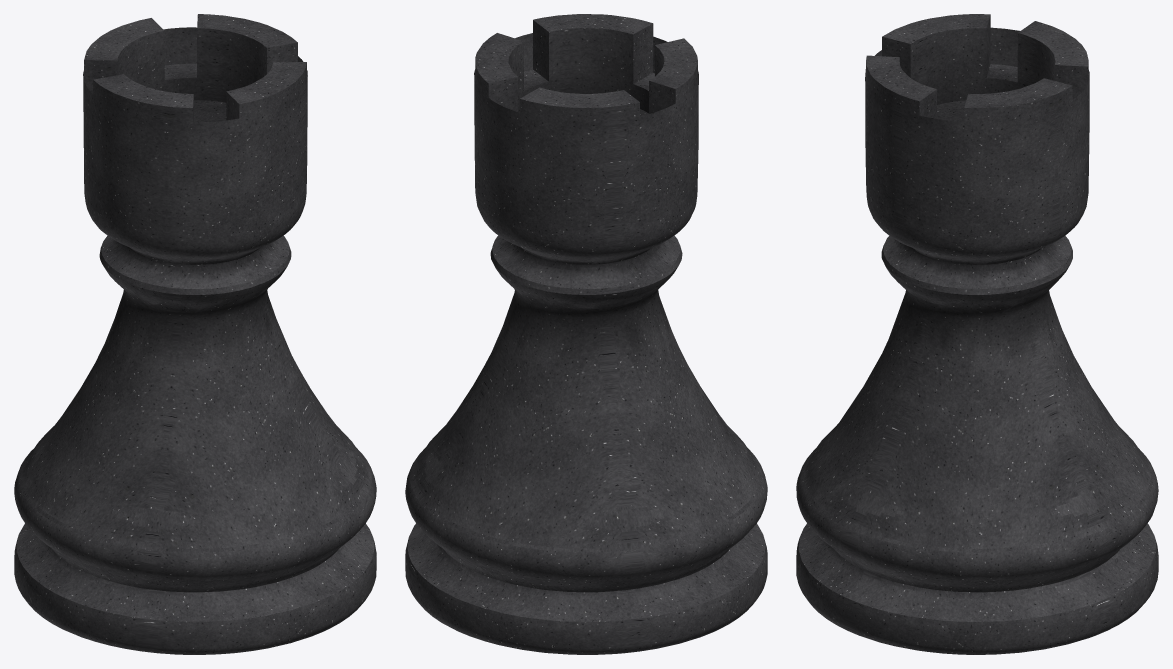
Rendered from rook-black.glb.
3 views of the same model, side by side, from view 1: azimuth 30°, elevation 25°; view 2: azimuth 150°, elevation 25°; view 3: azimuth 270°, elevation 25° (orthographic).
Parts seen in each view (by area): view 1: vez_cerna; view 2: vez_cerna; view 3: vez_cerna.
Part boxes in pixels (x1,y1,x2,y2): vez_cerna: [14, 14, 376, 654]; vez_cerna: [405, 14, 767, 654]; vez_cerna: [796, 14, 1158, 654].
Bounding box in the file's own units: 0.6248 × 1.01 × 0.6244.
Materials: 1 (1 with a texture image).
